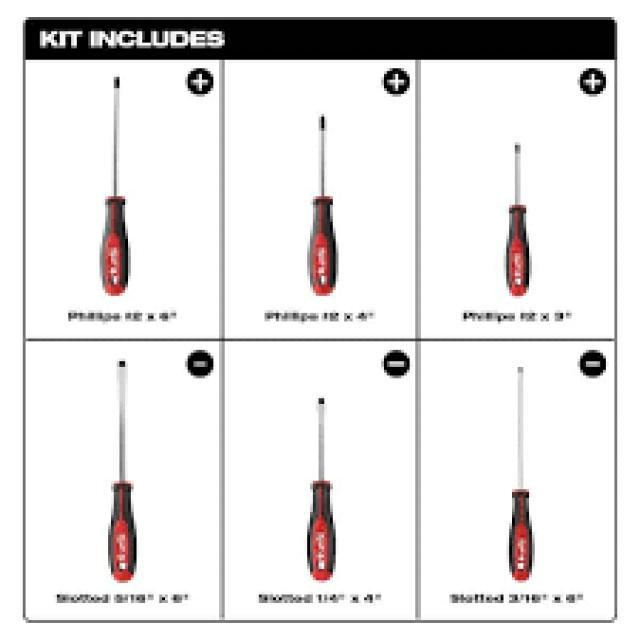screwdriver: (102, 357, 140, 587), (94, 71, 131, 302), (298, 392, 342, 586), (500, 364, 538, 583), (304, 104, 342, 300), (500, 140, 534, 300)
